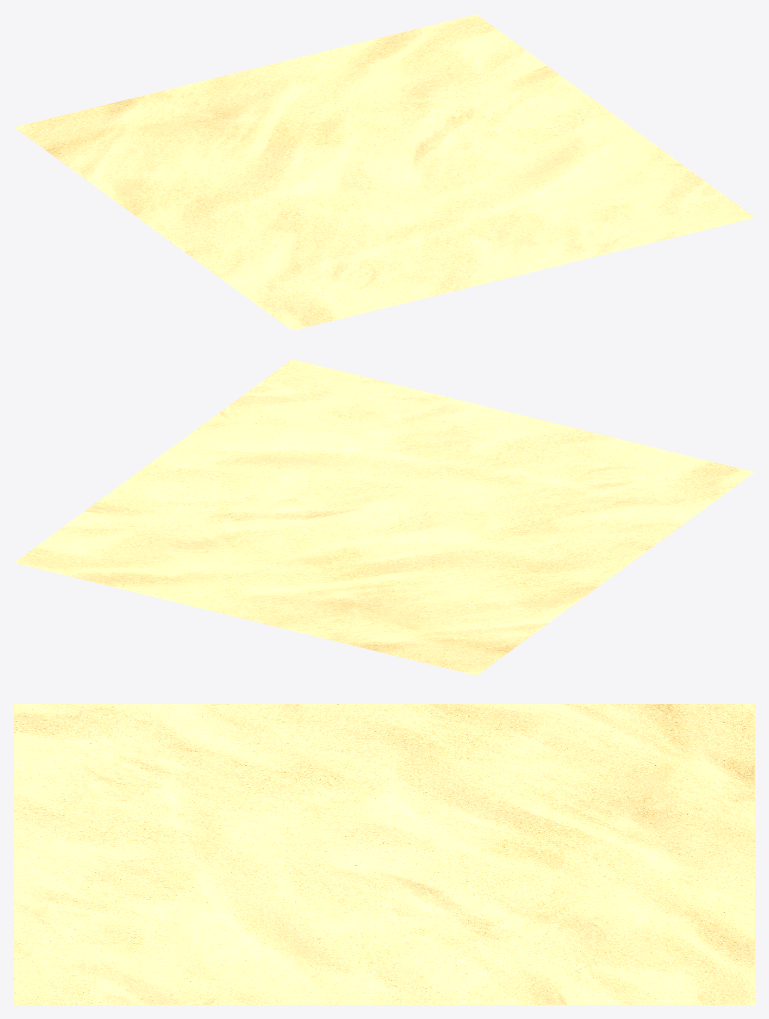
Rendered from Fundo.gltf.
The picture shows the model from 3 angles, top to bottom: view 1: azimuth 30°, elevation 25°; view 2: azimuth 150°, elevation 25°; view 3: azimuth 270°, elevation 25°; orthographic projection. The views are drawn at different scales.
Parts seen in each view (by area): view 1: Plano; view 2: Plano; view 3: Plano.
Boxes of the visible parts, left/top/right/bottom form: Plano: left=14, top=14, right=754, bottom=330; Plano: left=14, top=359, right=754, bottom=675; Plano: left=14, top=704, right=754, bottom=1004.
Size of the model in its own units: 13.06 by 0 by 13.6.
